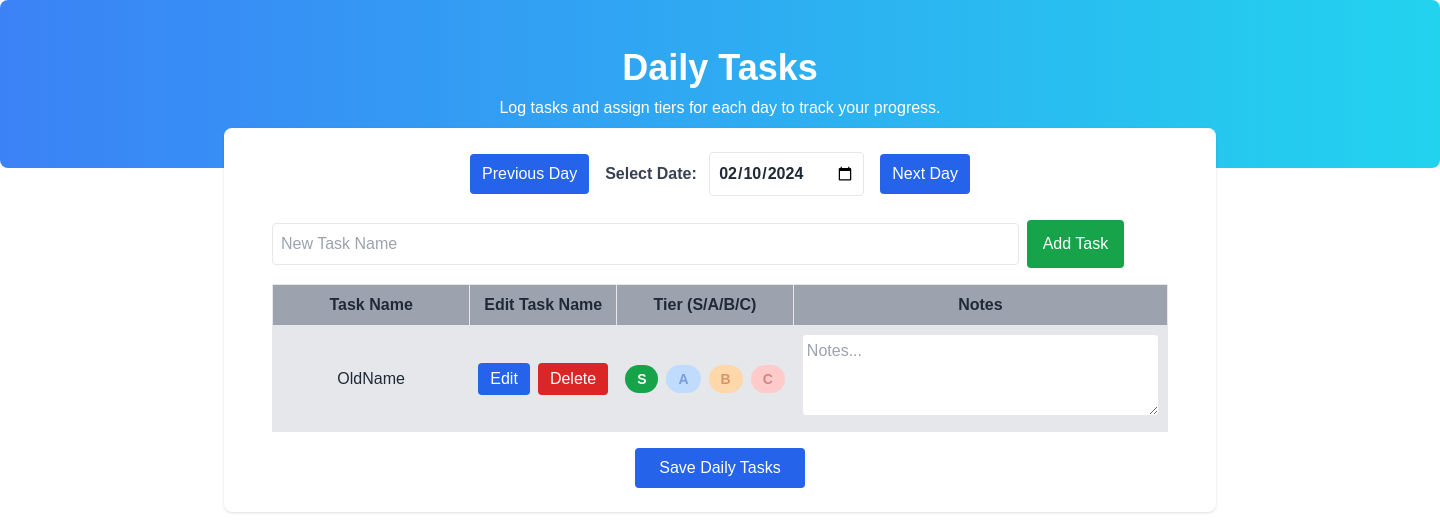
Test: DailyPage (src/app/daily/page.tsx) › allows user to edit a task name
The width and height of the screenshot is (1440, 530).
Expected: the text "OldName" is shown, [337,370,405,386]
Click the button "Edit" at (504, 378), box [478,362,530,394]
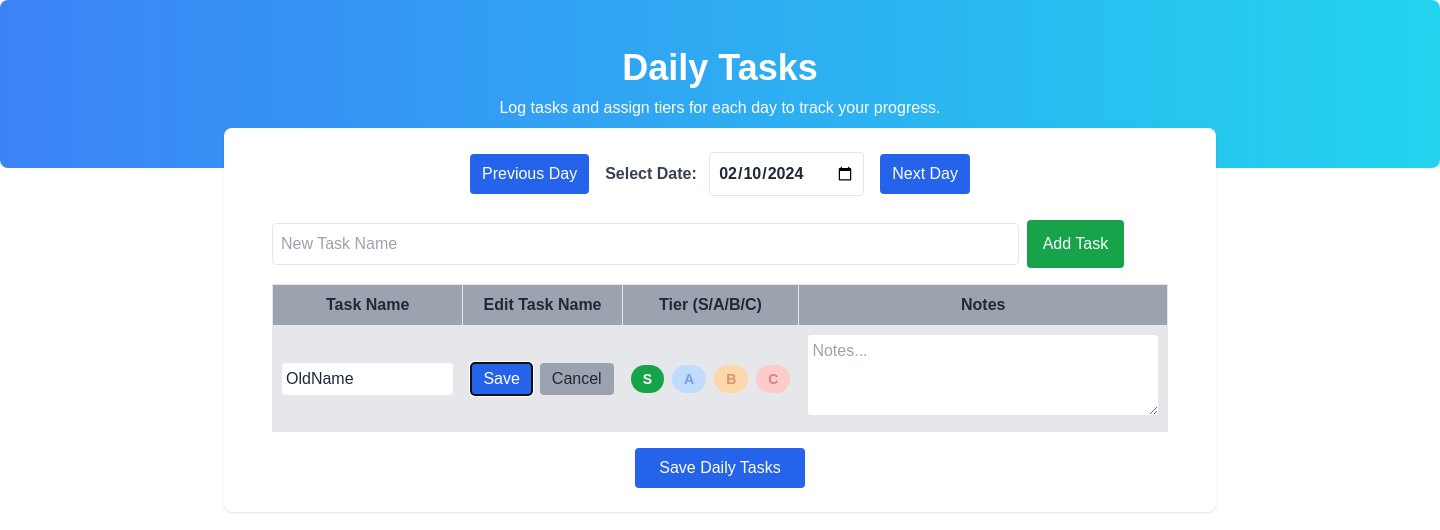
Replace the text in the field showing "OldName" with "UpdatedName" at (368, 378), box [281,362,454,396]
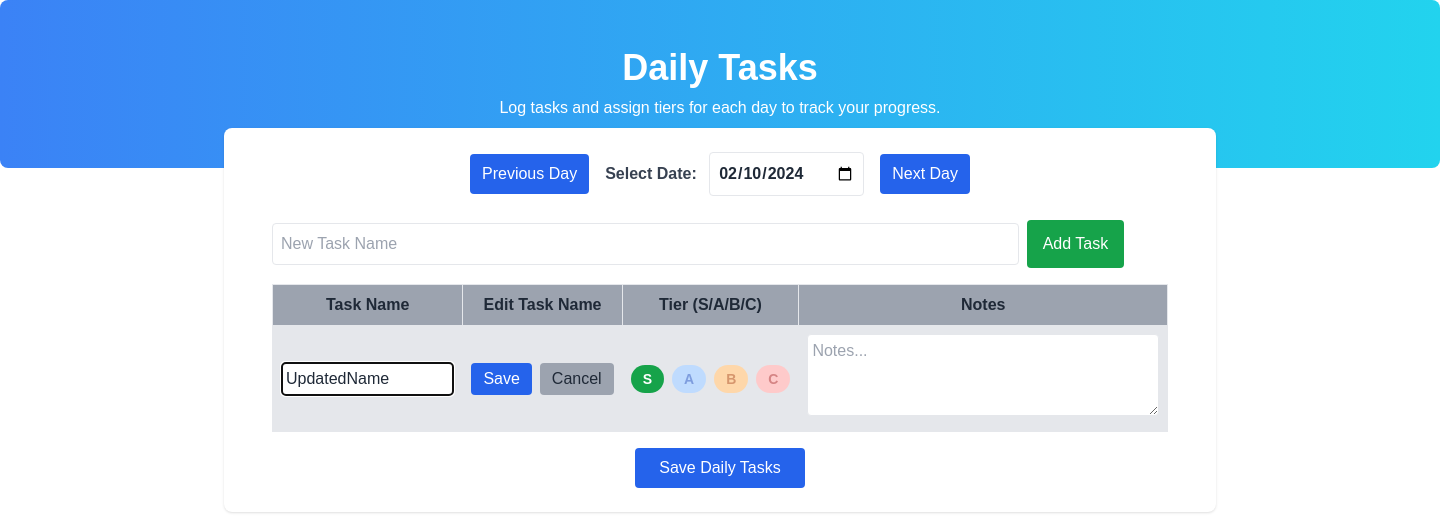
Click the button "Save" at (502, 378), box [471,362,532,394]
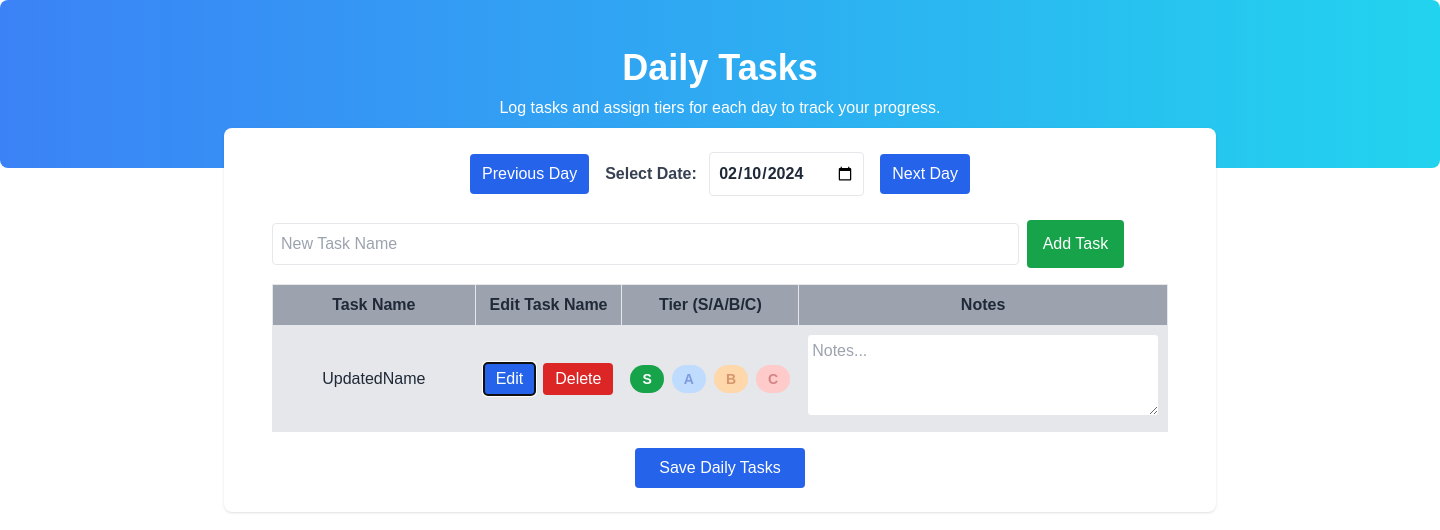
Now the text "UpdatedName" is shown, box [322,370,425,386]
